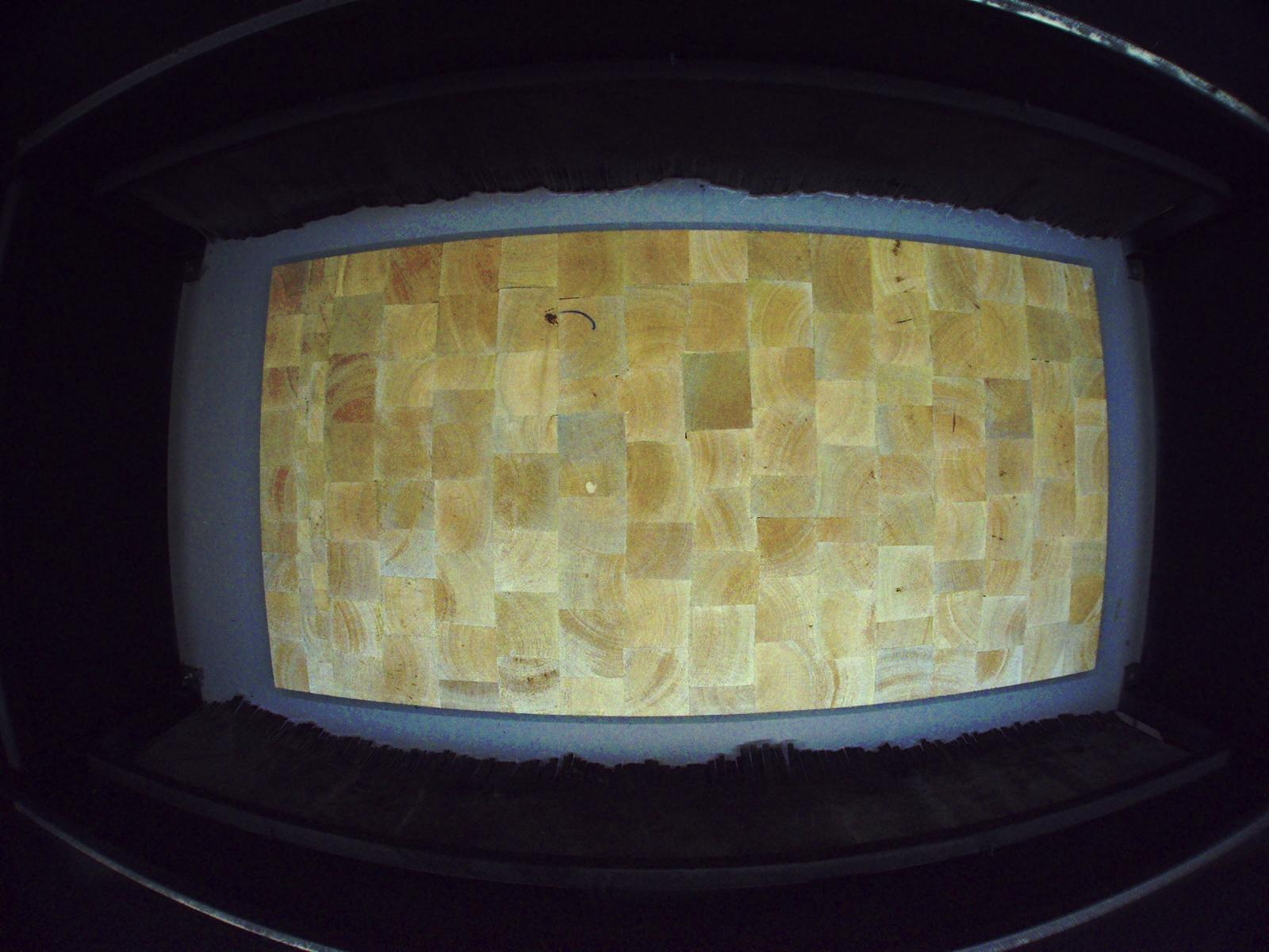nudillo: (543, 307, 559, 329)
